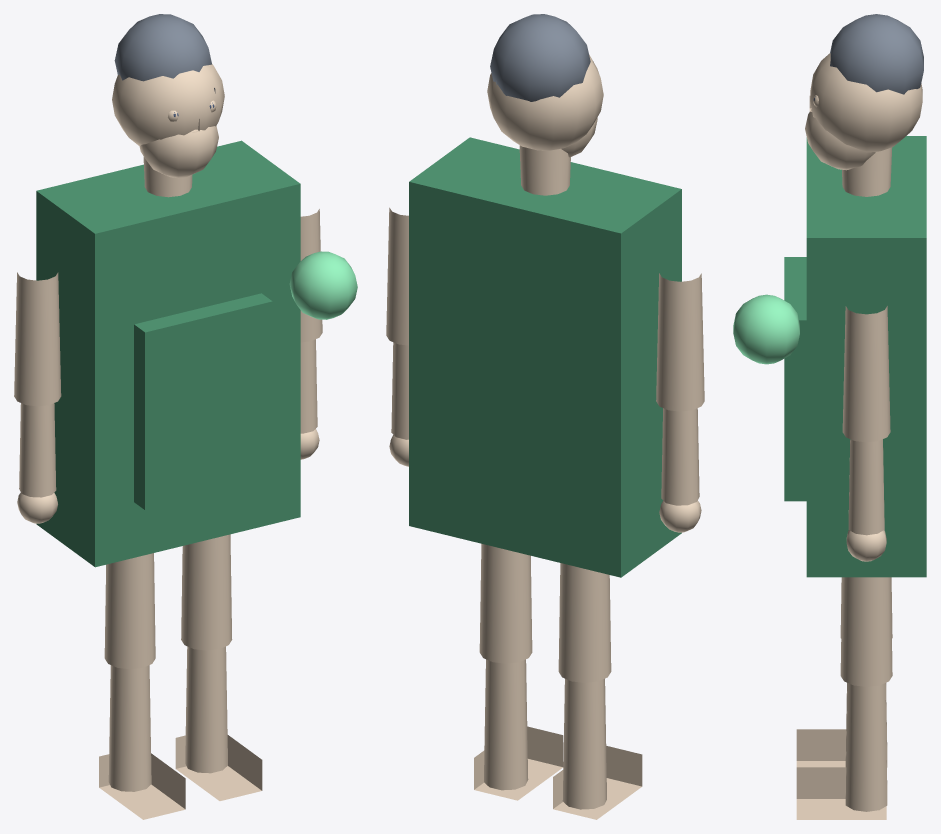
File: body.glb
3 renders of one model, left to right at view 1: azimuth 30°, elevation 25°; view 2: azimuth 150°, elevation 25°; view 3: azimuth 270°, elevation 25°, orthographic. The views are drawn at different scales.
Visible parts, largest first — view 1: Cloth, Skin, Hair, Metal; view 2: Cloth, Skin, Hair; view 3: Cloth, Skin, Hair, Metal.
Boxes of the visible parts, bbox=[...] form: Cloth: bbox=[36, 140, 300, 567]; Skin: bbox=[14, 64, 322, 819]; Hair: bbox=[114, 14, 215, 93]; Metal: bbox=[289, 251, 357, 319]; Cloth: bbox=[409, 137, 681, 577]; Skin: bbox=[386, 54, 704, 819]; Hair: bbox=[490, 14, 590, 101]; Cloth: bbox=[784, 136, 926, 577]; Skin: bbox=[796, 53, 922, 819]; Hair: bbox=[830, 14, 923, 94]; Metal: bbox=[733, 294, 799, 364].
Bounding box in the file's own units: 0.7114 × 1.71 × 0.3866.
